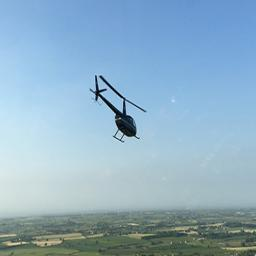helicopter: (88, 74, 152, 143)
